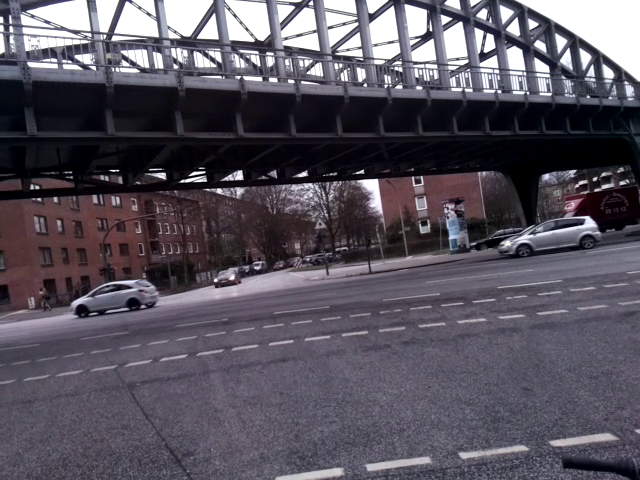car: (498, 208, 605, 260), (66, 275, 165, 324)
